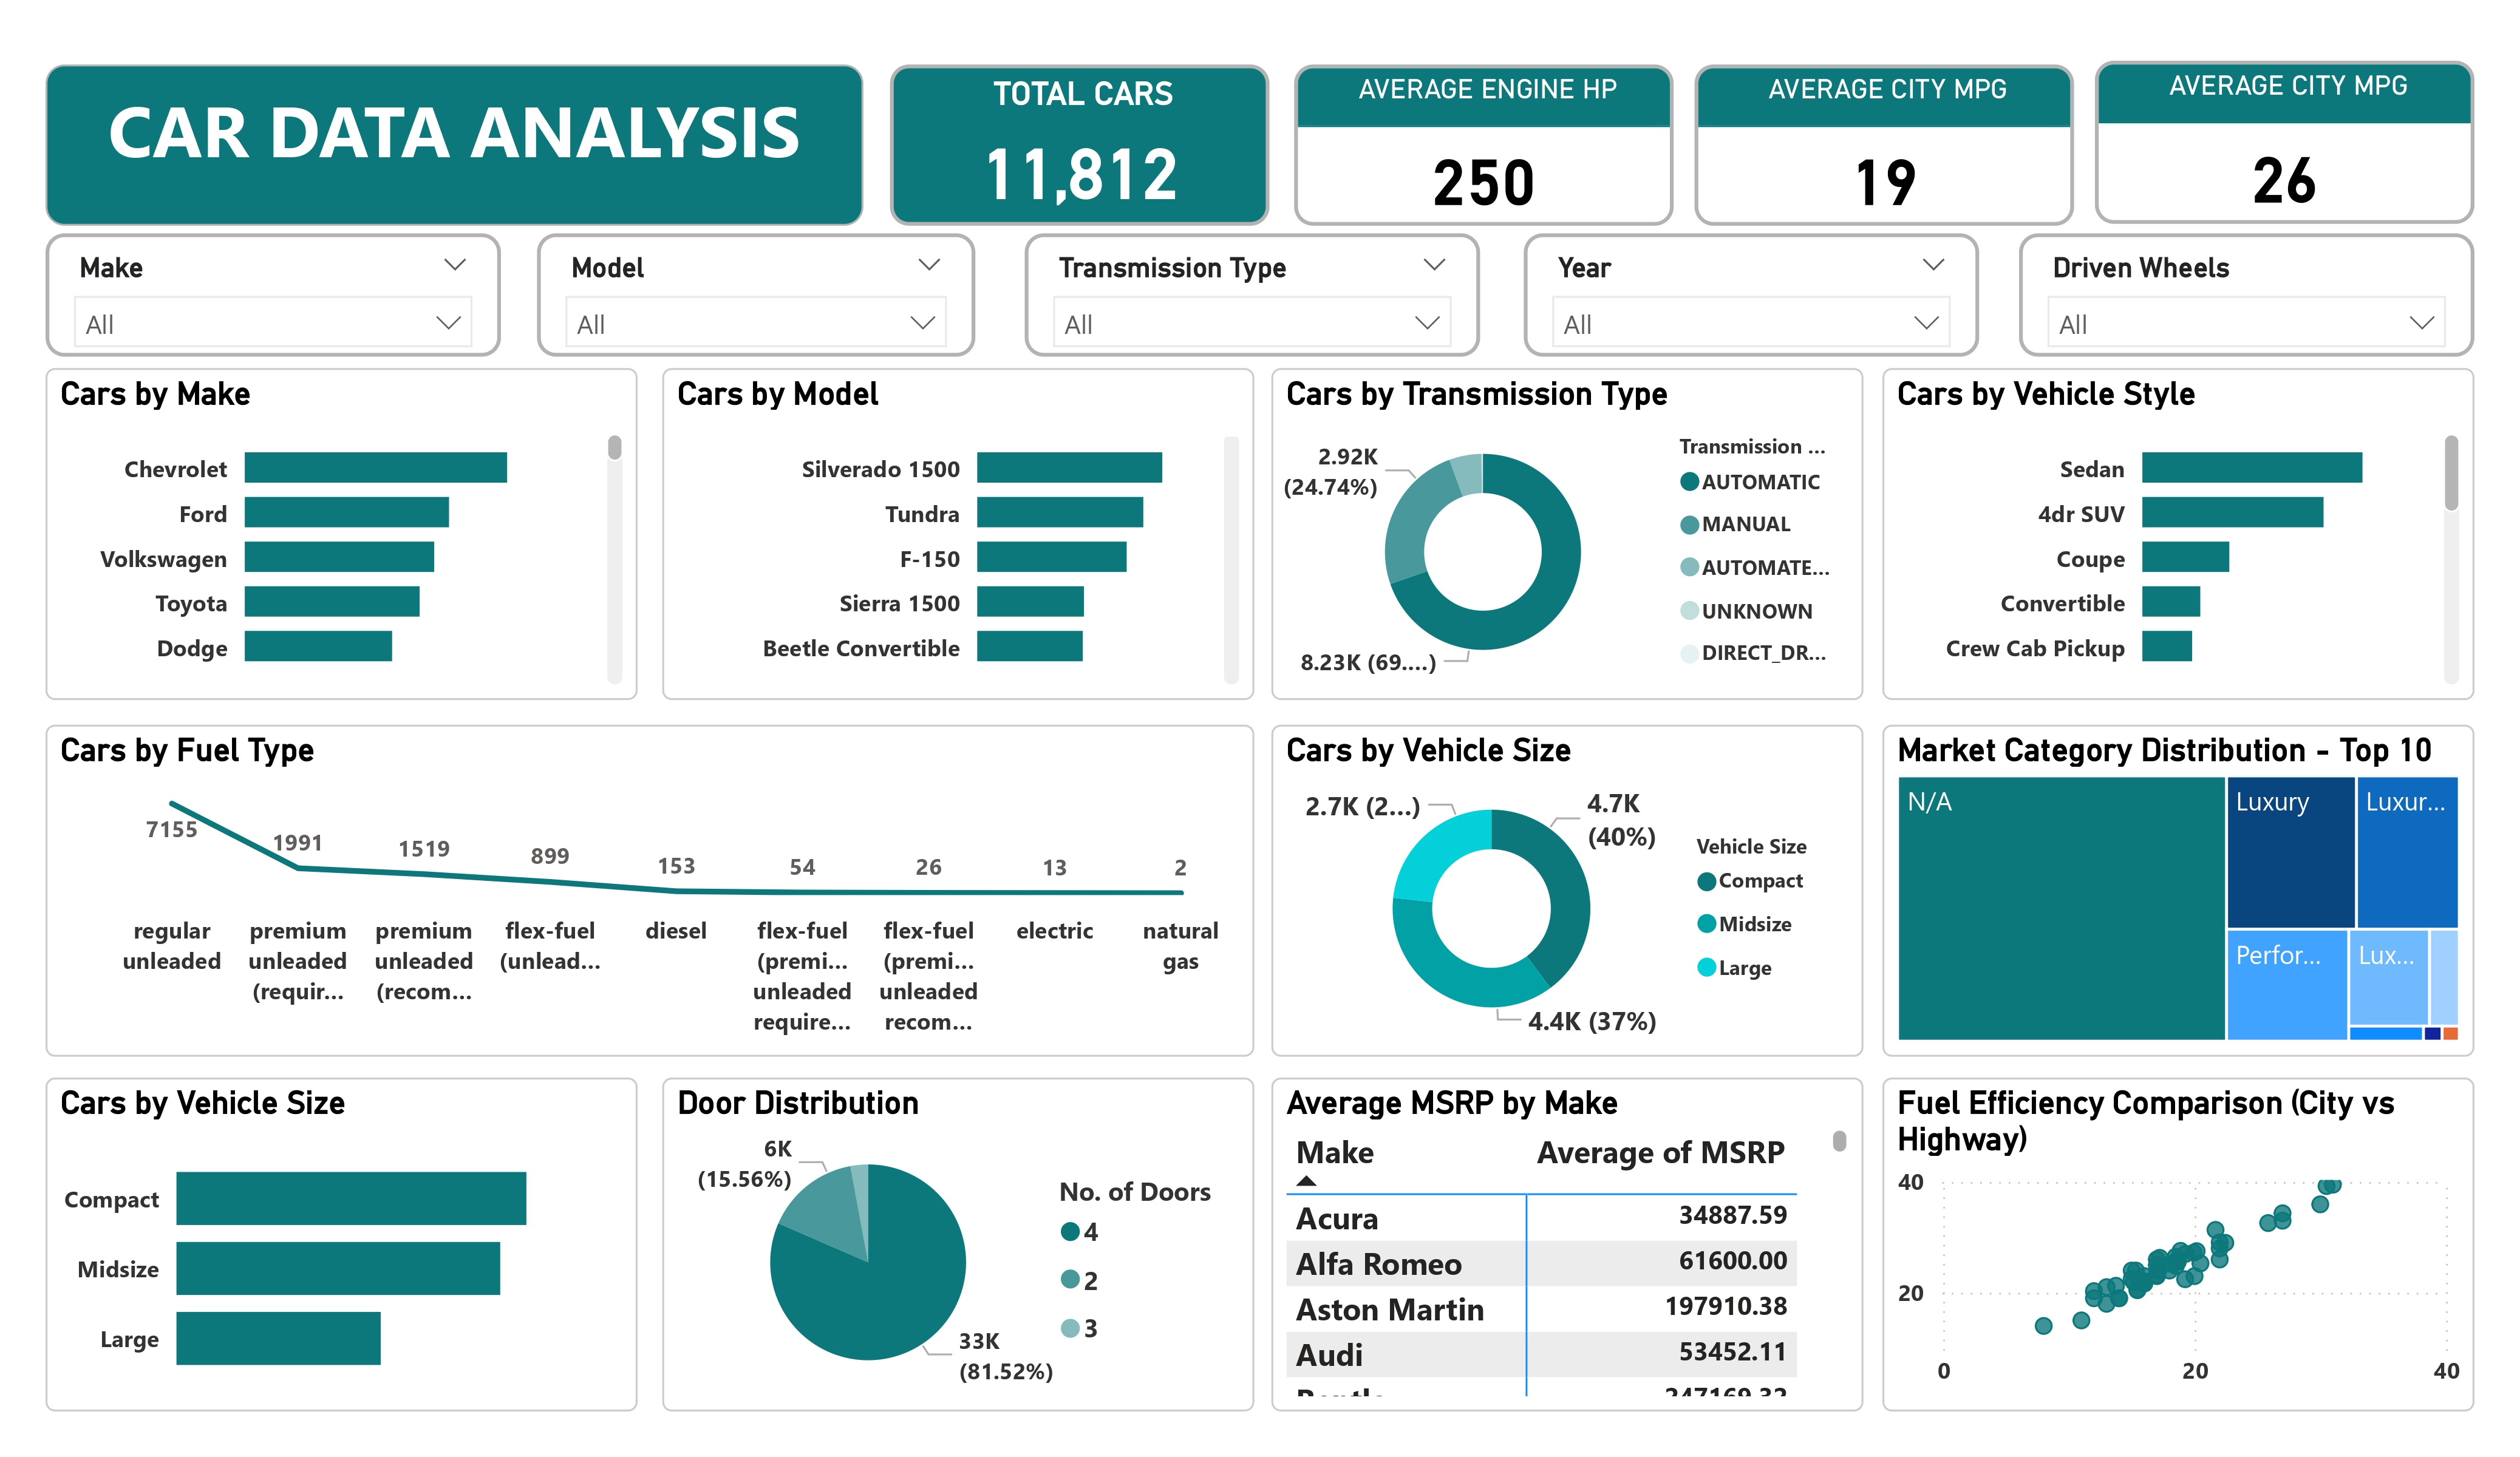

The dashboard page shown, as its layout file describes it:
{"tool":"powerbi","page":{"name":"Page 1","canvas":[1280,720],"ordinal":0},"visuals":[{"type":"card","title":"TOTAL CARS","fields":{"Values":["CountNonNull(CarData.Make)"]},"box":[445.2,9.7,200,85],"z":0},{"type":"card","title":"AVERAGE CITY MPG","fields":{"Values":["Avg(CarData.City MPG)"]},"box":[868.6,9.7,200.3,85],"z":1000},{"type":"card","title":"AVERAGE ENGINE HP","fields":{"Values":["Avg(CarData.Engine HP)"]},"box":[657.5,9.7,200.3,85],"z":2000},{"type":"slicer","fields":{"Values":["CarData.Make"]},"box":[0,98.9,240,65.1],"z":3000},{"type":"slicer","fields":{"Values":["CarData.Model"]},"box":[259.4,98.9,230.4,65.1],"z":4000},{"type":"slicer","fields":{"Values":["CarData.Year"]},"box":[779.4,98.9,240.1,65.1],"z":5000},{"type":"slicer","fields":{"Values":["CarData.Transmission Type"]},"box":[516.4,98.9,240.1,65.1],"z":6000},{"type":"slicer","fields":{"Values":["CarData.Driven Wheels"]},"box":[1040,99,240,65],"z":7000},{"type":"barChart","title":"Cars by Make","fields":{"Y":["CountNonNull(CarData.Make)"],"Category":["CarData.Make"]},"box":[0,170.1,312,175],"z":8000},{"type":"barChart","title":"Cars by Model","fields":{"Category":["CarData.Model"],"Y":["CountNonNull(CarData.Model)"]},"box":[325,169.6,312.2,175],"z":9000},{"type":"donutChart","title":"Cars by Transmission Type","fields":{"Y":["CountNonNull(CarData.Transmission Type)"],"Category":["CarData.Transmission Type"]},"box":[645.7,169.6,312,175],"z":10000},{"type":"lineChart","title":"Cars by Fuel Type","fields":{"Y":["CountNonNull(CarData.Engine Fuel Type)"],"Category":["CarData.Engine Fuel Type"]},"box":[0,357.8,637.1,175.3],"z":11000},{"type":"clusteredBarChart","title":"Cars by Vehicle Size","fields":{"Y":["CountNonNull(CarData.Vehicle Size)"],"Category":["CarData.Vehicle Size"]},"box":[0,544.5,312.2,175.3],"z":12000},{"type":"donutChart","title":"Cars by Vehicle Size","fields":{"Y":["CountNonNull(CarData.Vehicle Size)"],"Category":["CarData.Vehicle Size"]},"box":[645.7,357.8,312.2,175],"z":13000},{"type":"pieChart","title":"Door Distribution","fields":{"Y":["Sum(CarData.Number of Doors)"],"Category":["CarData.Number of Doors"]},"box":[325,544.5,312.2,175.3],"z":14000},{"type":"treemap","title":"Market Category Distribution - Top 10","fields":{"Group":["CarData.Market Category"],"Values":["CountNonNull(CarData.Market Category)"]},"box":[968,358,312,175],"z":15000},{"type":"scatterChart","title":"Fuel Efficiency Comparison (City vs Highway)","fields":{"X":["Avg(CarData.City MPG)"],"Category":["CarData.Model"],"Y":["Avg(CarData.Highway MPG)"]},"box":[968,544,312,176],"z":16000},{"type":"pivotTable","title":"Average MSRP by Make","fields":{"Rows":["CarData.Make"],"Values":["Avg(CarData.MSRP)"]},"box":[645.7,544.5,312.2,175.3],"z":17000},{"type":"barChart","title":"Cars by Vehicle Style","fields":{"Category":["CarData.Vehicle Style"],"Y":["CountNonNull(CarData.Vehicle Style)"]},"box":[968,170,312,175],"z":18000},{"type":"textbox","box":[0,9.7,430.7,85],"z":19000},{"type":"card","title":"AVERAGE CITY MPG","fields":{"Values":["Avg(CarData.Highway MPG)"]},"box":[1079.8,8.4,200.3,85.7],"z":20000}]}

Visuals, with their boxes in screenshot pixels (x1, y1, x2, y2):
"TOTAL CARS" card: (890, 64, 1270, 225)
"AVERAGE CITY MPG" card: (1694, 64, 2074, 225)
"AVERAGE ENGINE HP" card: (1293, 64, 1674, 225)
slicer - CarData.Make: (46, 233, 501, 357)
slicer - CarData.Model: (538, 233, 975, 357)
slicer - CarData.Year: (1525, 233, 1980, 357)
slicer - CarData.Transmission Type: (1026, 233, 1481, 357)
slicer - CarData.Driven Wheels: (2019, 233, 2474, 357)
"Cars by Make" barChart: (46, 368, 638, 700)
"Cars by Model" barChart: (662, 367, 1255, 699)
"Cars by Transmission Type" donutChart: (1271, 367, 1863, 699)
"Cars by Fuel Type" lineChart: (46, 724, 1255, 1057)
"Cars by Vehicle Size" clusteredBarChart: (46, 1079, 638, 1411)
"Cars by Vehicle Size" donutChart: (1271, 724, 1863, 1056)
"Door Distribution" pieChart: (662, 1079, 1255, 1411)
"Market Category Distribution - Top 10" treemap: (1882, 725, 2474, 1057)
"Fuel Efficiency Comparison (City vs Highway)" scatterChart: (1882, 1078, 2474, 1411)
"Average MSRP by Make" pivotTable: (1271, 1079, 1863, 1411)
"Cars by Vehicle Style" barChart: (1882, 368, 2474, 700)
textbox: (46, 64, 863, 225)
"AVERAGE CITY MPG" card: (2094, 61, 2474, 224)
